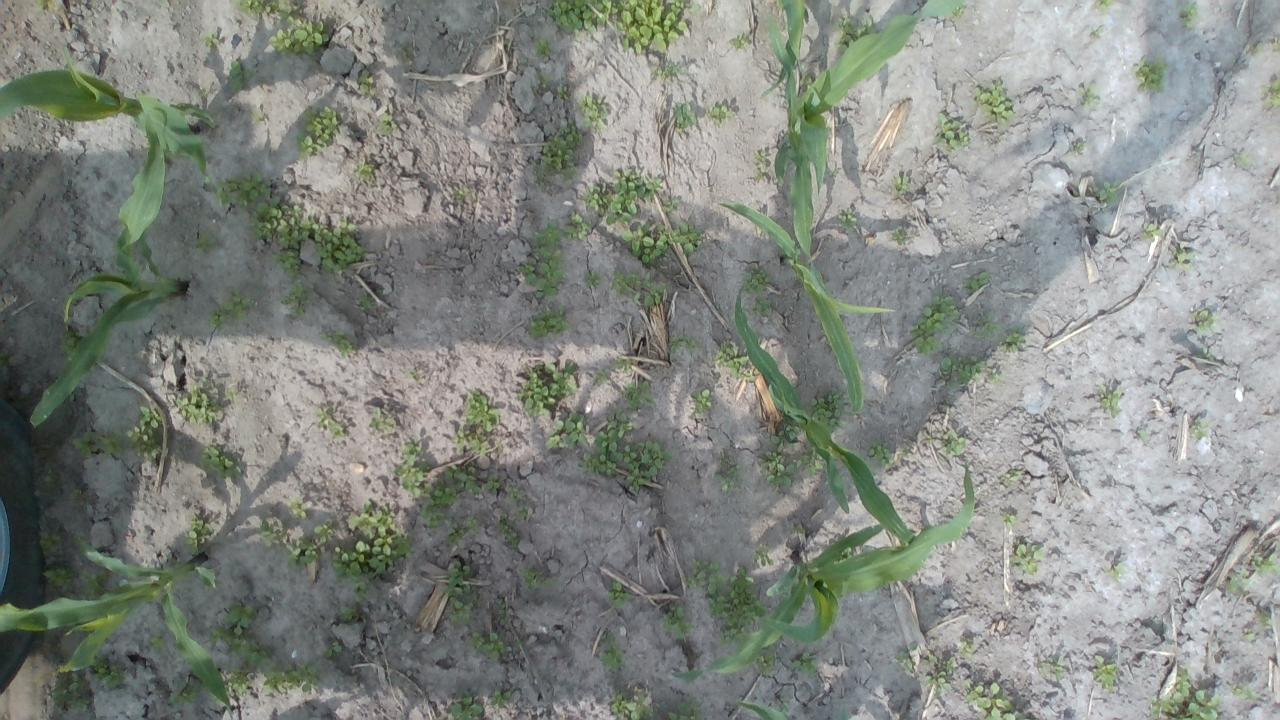Maize: (671, 462, 976, 684), (767, 0, 970, 292), (729, 274, 920, 546), (26, 115, 182, 431), (0, 527, 240, 720), (716, 190, 896, 417), (0, 46, 212, 175), (763, 0, 810, 95), (738, 698, 786, 720)
Weeds: (331, 498, 414, 584), (709, 566, 770, 649), (616, 0, 701, 56), (518, 217, 566, 299), (1150, 666, 1222, 720), (605, 167, 664, 226), (252, 196, 316, 250), (581, 408, 631, 477), (912, 292, 962, 358), (535, 121, 584, 188), (520, 360, 578, 416), (313, 214, 366, 273), (208, 624, 274, 670), (622, 441, 674, 494), (270, 16, 331, 60), (294, 105, 342, 158), (206, 286, 258, 334), (546, 0, 617, 35), (963, 679, 1022, 720), (972, 78, 1016, 129), (392, 441, 432, 496), (612, 271, 674, 306), (215, 171, 272, 209), (128, 406, 164, 465), (623, 222, 669, 266), (938, 354, 988, 394), (262, 661, 320, 695), (420, 480, 457, 530), (607, 685, 659, 720), (834, 13, 877, 55), (174, 384, 218, 424), (198, 442, 243, 481), (712, 340, 754, 381), (810, 389, 848, 434), (71, 428, 125, 459), (464, 388, 502, 432), (525, 306, 570, 342), (546, 412, 588, 450), (931, 112, 970, 152), (464, 629, 510, 662), (759, 448, 796, 489), (230, 0, 301, 21), (1008, 540, 1048, 576), (1132, 54, 1168, 94), (922, 654, 958, 694), (662, 599, 696, 641), (686, 558, 723, 596), (312, 398, 346, 439), (50, 680, 90, 714), (279, 280, 315, 317), (1090, 652, 1122, 692), (442, 559, 474, 597), (770, 415, 801, 454), (94, 658, 128, 690), (670, 221, 704, 253), (576, 95, 608, 129), (321, 328, 356, 359), (600, 632, 626, 673), (714, 456, 742, 494), (184, 519, 213, 555), (444, 694, 484, 720), (798, 444, 826, 481), (284, 539, 317, 570), (225, 600, 258, 630), (42, 564, 74, 594), (518, 568, 558, 592), (60, 328, 86, 364), (78, 568, 106, 601), (1098, 383, 1124, 418), (895, 640, 920, 676), (259, 518, 290, 547), (627, 382, 656, 412), (607, 580, 635, 611), (446, 468, 480, 493), (272, 250, 302, 278), (562, 213, 592, 241), (740, 268, 772, 294), (228, 58, 252, 92), (1040, 654, 1068, 682), (222, 667, 250, 695), (1171, 239, 1195, 271), (367, 406, 393, 435), (792, 652, 818, 680), (869, 441, 894, 470), (691, 388, 714, 419), (971, 316, 1003, 338), (667, 700, 702, 720), (191, 230, 219, 255), (448, 598, 473, 626), (38, 526, 63, 554), (1191, 308, 1220, 331), (167, 686, 200, 706), (1004, 327, 1029, 353), (1226, 569, 1252, 594), (1077, 82, 1102, 108), (944, 431, 968, 458), (585, 185, 609, 212), (752, 649, 776, 676), (1251, 554, 1280, 576), (674, 102, 696, 130), (650, 62, 684, 80), (1261, 78, 1280, 110), (286, 496, 311, 520), (1096, 180, 1120, 204), (836, 208, 860, 232), (496, 522, 518, 548), (670, 334, 698, 354), (356, 69, 376, 97), (707, 106, 735, 126), (968, 272, 992, 295), (1186, 418, 1209, 442), (750, 546, 774, 568), (149, 632, 171, 656), (321, 640, 347, 660), (752, 293, 774, 316), (377, 112, 398, 136), (314, 520, 335, 544), (532, 38, 556, 59), (1181, 3, 1201, 28), (752, 149, 768, 178), (494, 600, 511, 627), (1140, 222, 1164, 241), (1232, 684, 1256, 703), (492, 687, 511, 710), (1000, 468, 1024, 486), (350, 580, 368, 604), (890, 175, 911, 194), (338, 602, 356, 624), (447, 524, 465, 546), (200, 30, 219, 49), (959, 638, 976, 659), (358, 292, 376, 311), (582, 269, 602, 286), (1108, 561, 1125, 581), (354, 160, 375, 176), (30, 0, 50, 16), (1254, 610, 1272, 627), (461, 511, 478, 529), (506, 483, 524, 500), (1000, 512, 1019, 528), (484, 474, 500, 493), (730, 34, 749, 50), (890, 226, 906, 244), (453, 428, 467, 448), (595, 369, 611, 386), (537, 72, 554, 88), (660, 199, 678, 214), (1092, 0, 1114, 12), (1200, 346, 1216, 362), (951, 5, 968, 20), (454, 185, 471, 200), (224, 386, 240, 401), (1234, 152, 1250, 167), (614, 360, 632, 373), (1072, 141, 1088, 155), (990, 366, 1003, 383), (192, 86, 210, 98), (556, 84, 570, 99), (1249, 42, 1265, 55), (72, 530, 86, 544), (254, 112, 266, 126), (470, 439, 482, 452), (1139, 431, 1151, 444), (518, 503, 528, 518), (1090, 29, 1101, 39), (1247, 630, 1256, 641)
